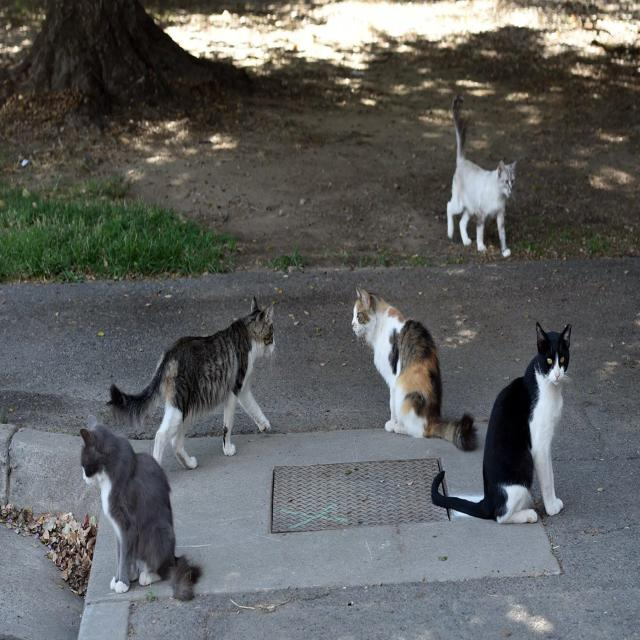cat: (109, 296, 275, 469), (431, 323, 571, 524), (81, 416, 201, 600), (351, 285, 478, 451), (446, 95, 516, 257)
